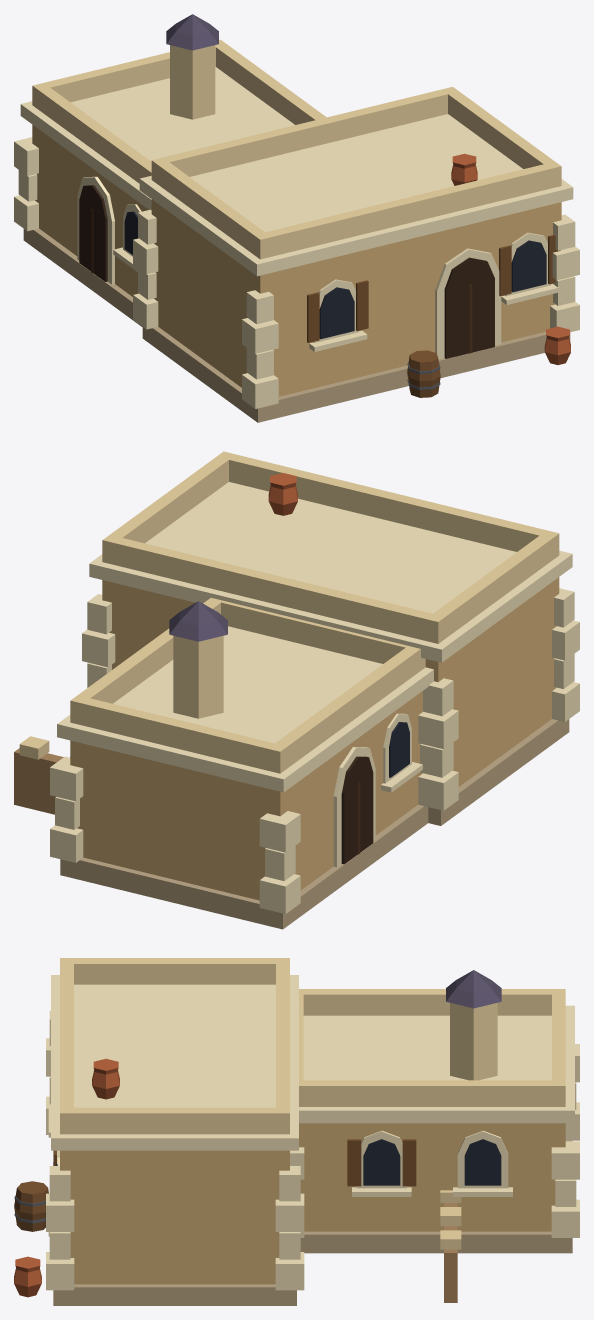
File: house_06_l_courtyard.fbx
3 views of the same model, one above another, from view 1: azimuth 30°, elevation 25°; view 2: azimuth 150°, elevation 25°; view 3: azimuth 270°, elevation 25° (orthographic). The views are drawn at different scales.
Parts seen in each view (by area): view 1: house_06_l_courtyard; view 2: house_06_l_courtyard; view 3: house_06_l_courtyard.
Part boxes in pixels (left/top/right/bottom): house_06_l_courtyard: left=14, top=14, right=579, bottom=422; house_06_l_courtyard: left=14, top=451, right=579, bottom=929; house_06_l_courtyard: left=14, top=958, right=579, bottom=1305.
Size of the model in its own units: 8.62 by 5.85 by 12.31.
Materials: 1 (1 with a texture image).
